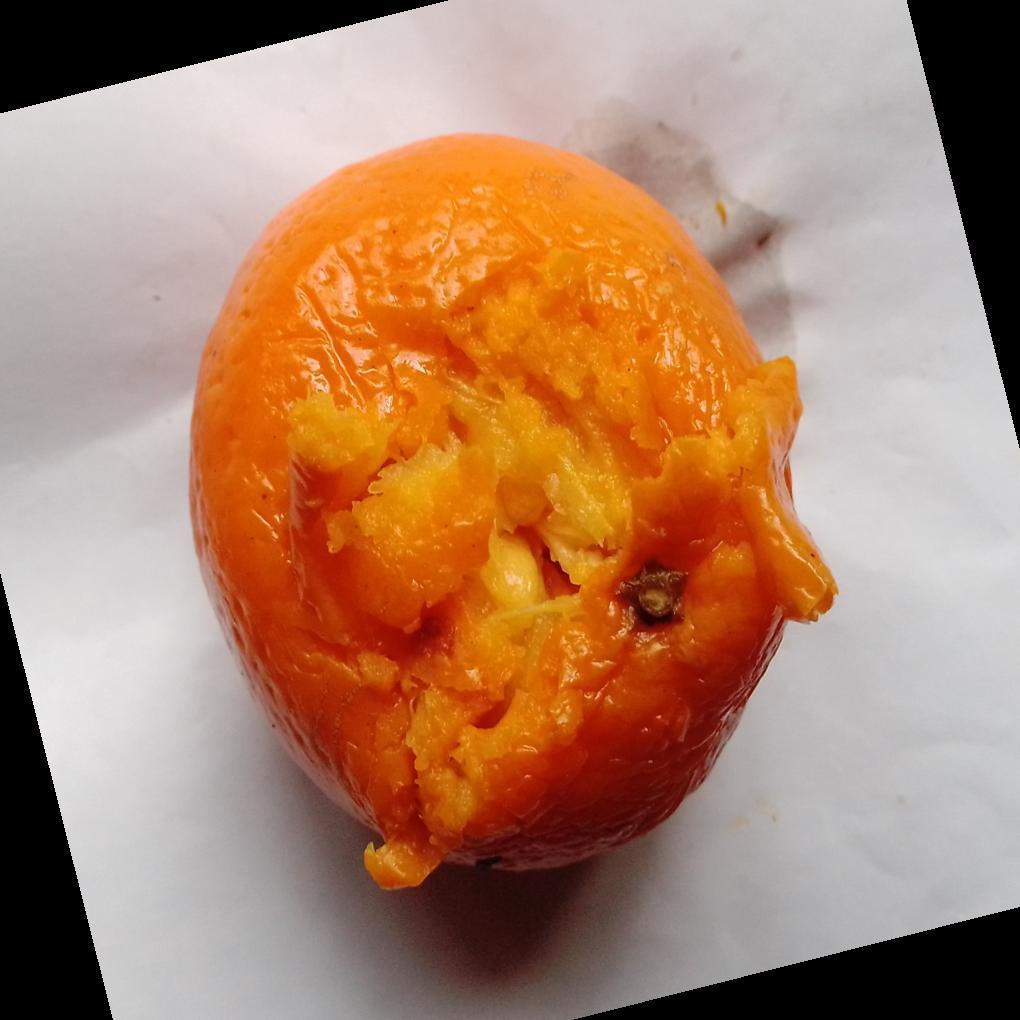FreshOrange: (188, 134, 838, 895)
